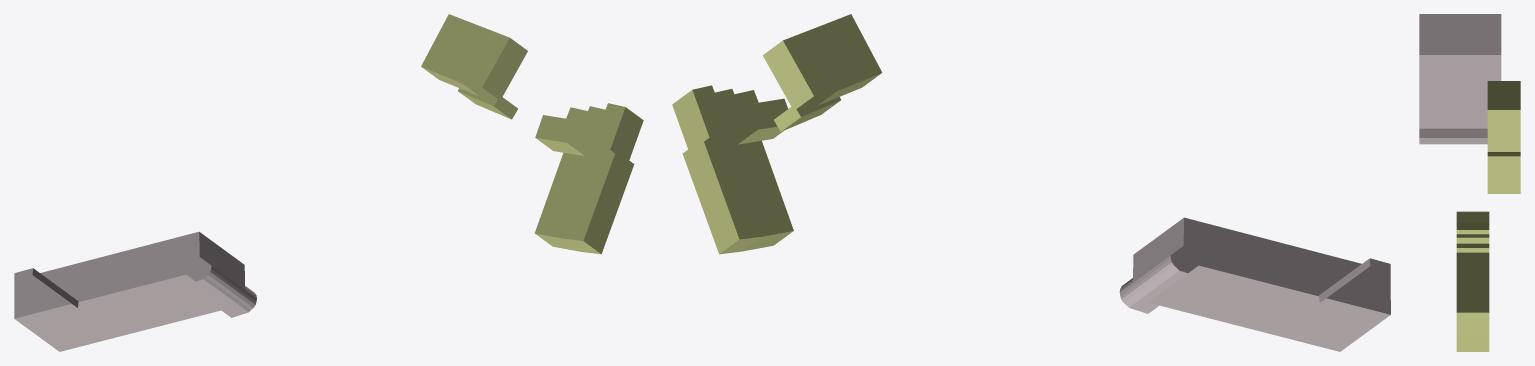
3 views of the same model, side by side, from view 1: azimuth 30°, elevation 25°; view 2: azimuth 150°, elevation 25°; view 3: azimuth 270°, elevation 25° (orthographic). The views are drawn at different scales.
Visible parts, largest first — view 1: 0_0_3_1_3_2_0; view 2: 0_0_3_1_3_2_0; view 3: 0_0_3_1_3_2_0.
Part boxes in pixels (x1,y1,x2,y2): 0_0_3_1_3_2_0: (14, 14, 643, 351); 0_0_3_1_3_2_0: (672, 14, 1390, 351); 0_0_3_1_3_2_0: (1419, 14, 1520, 351).
Size of the model in its own units: 115 by 44.31 by 18.5.
